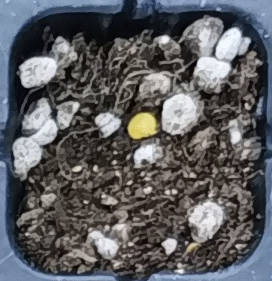pepper seed: (48, 41, 207, 182)
